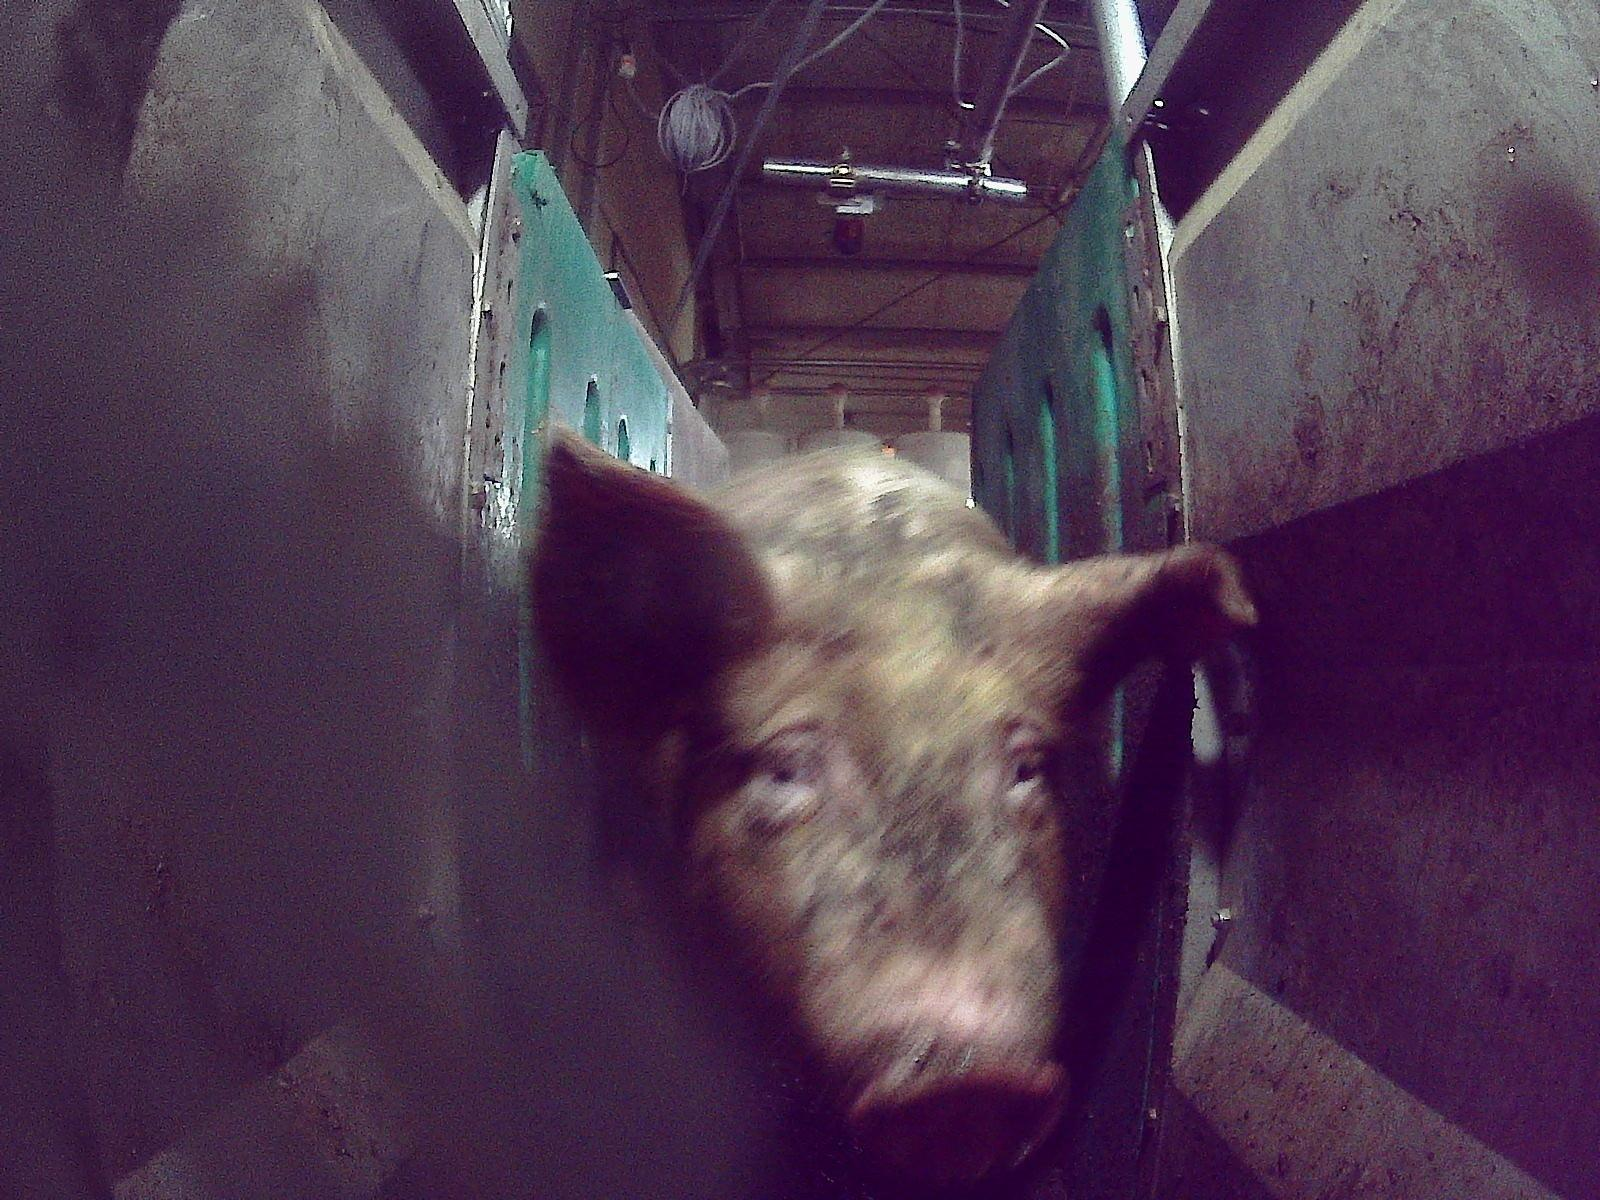Face: (673, 590, 1069, 1180)
